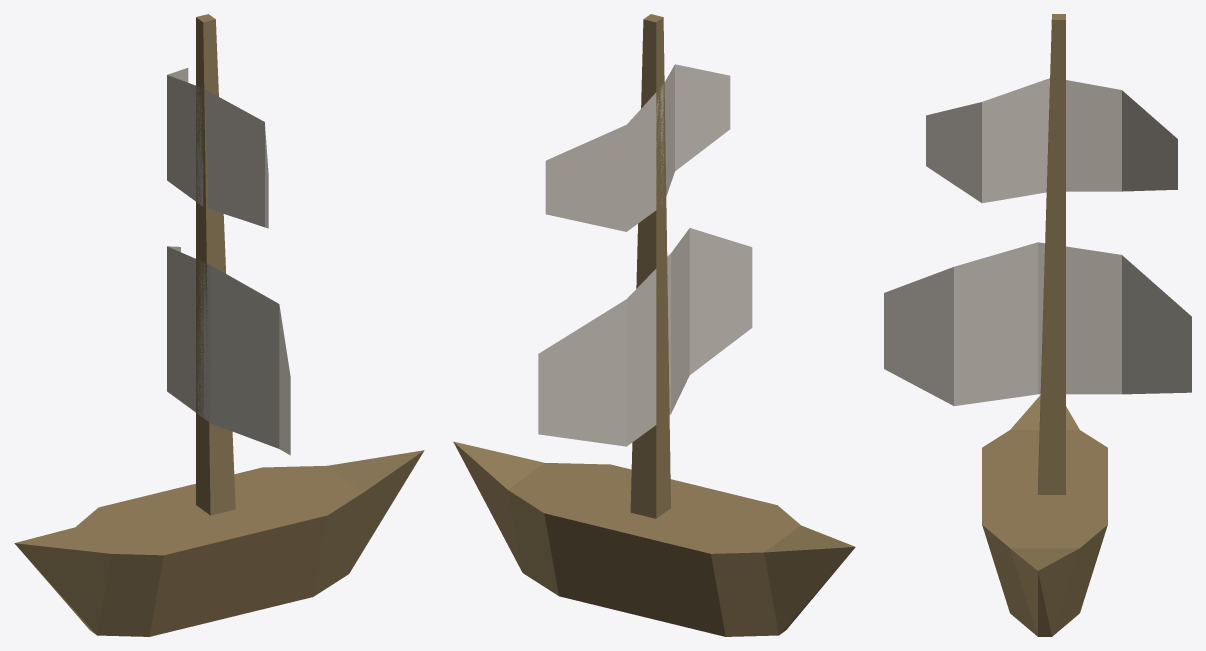
Rendered from inv_war_ship.obj.
The picture shows the model from 3 angles, left to right: view 1: azimuth 30°, elevation 25°; view 2: azimuth 150°, elevation 25°; view 3: azimuth 270°, elevation 25°; orthographic projection. The views are drawn at different scales.
Bounding box in the file's own units: 0.25 × 0.3438 × 0.1719.
